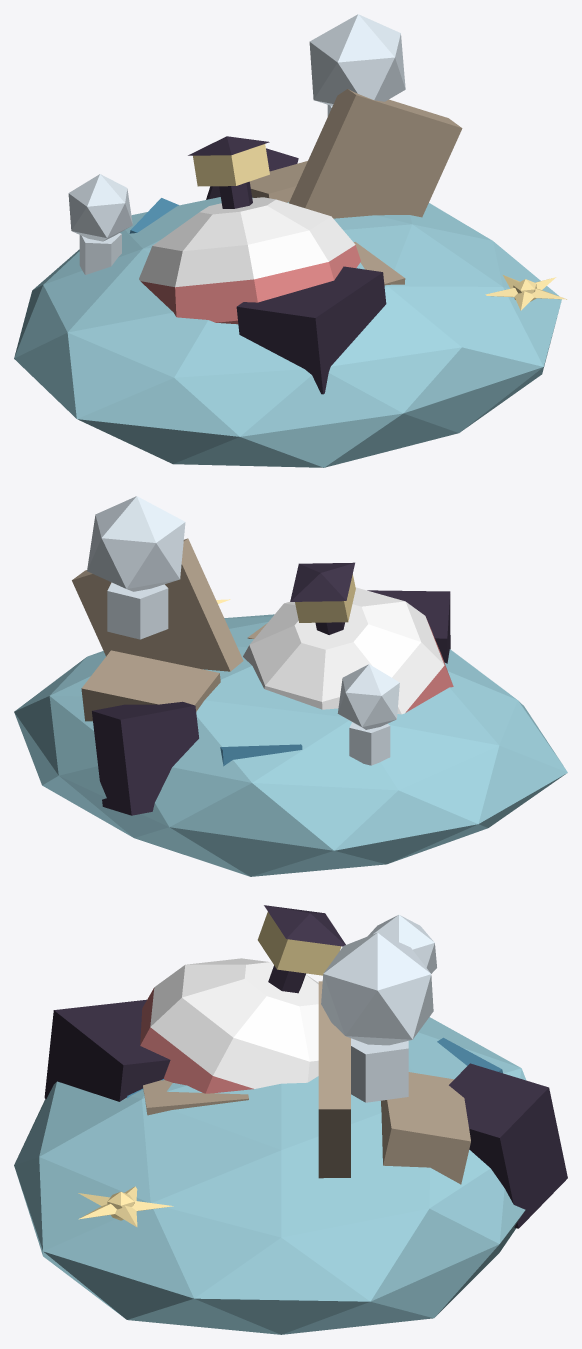
File: ocean-ruin.glb
3 views of the same model, one above another, from view 1: azimuth 30°, elevation 25°; view 2: azimuth 150°, elevation 25°; view 3: azimuth 270°, elevation 25° (orthographic). The views are drawn at different scales.
Visible parts, largest first — view 1: ocean-ruin; view 2: ocean-ruin; view 3: ocean-ruin.
Part boxes in pixels (bbox=[...]): ocean-ruin: bbox=[14, 14, 567, 467]; ocean-ruin: bbox=[14, 496, 567, 876]; ocean-ruin: bbox=[14, 905, 567, 1334].
Size of the model in its own units: 1.23 by 0.7194 by 1.04.
